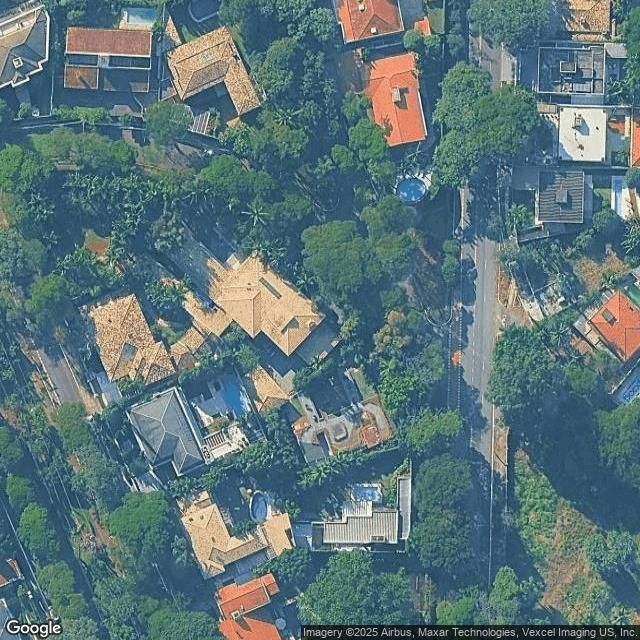pool: (363, 499, 380, 521), (406, 188, 426, 206), (229, 394, 240, 419), (133, 23, 152, 36), (259, 504, 269, 521)
